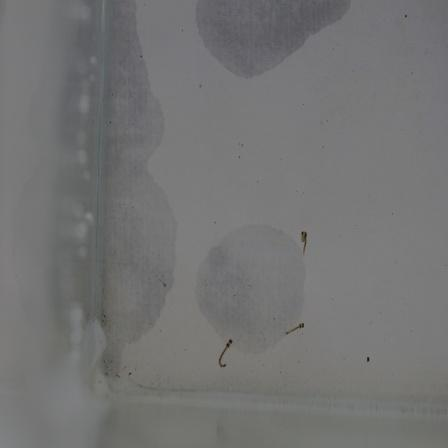Jentik-Nyamuk: (214, 336, 239, 369), (282, 318, 307, 341), (297, 228, 311, 261)
